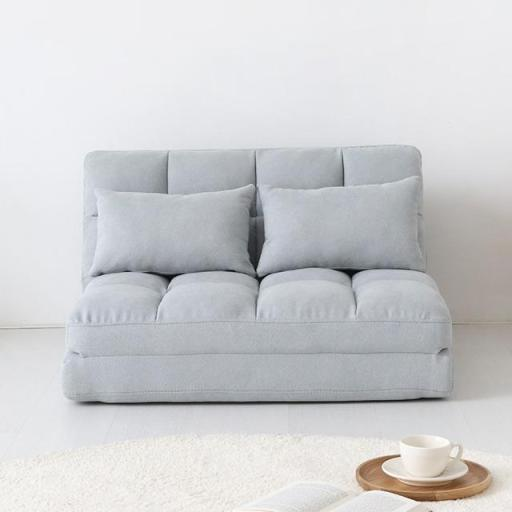sofa: (53, 120, 504, 426)
